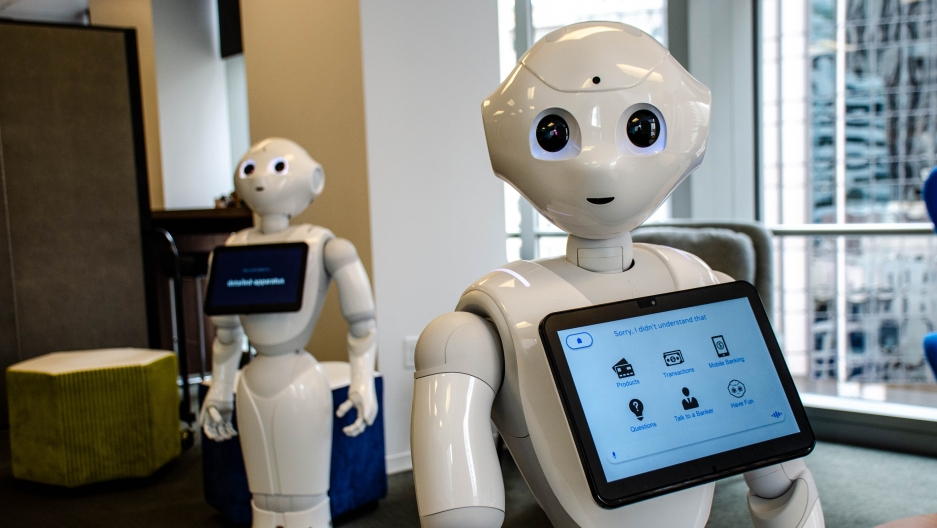person-like: (403, 14, 831, 528), (196, 134, 383, 528)
